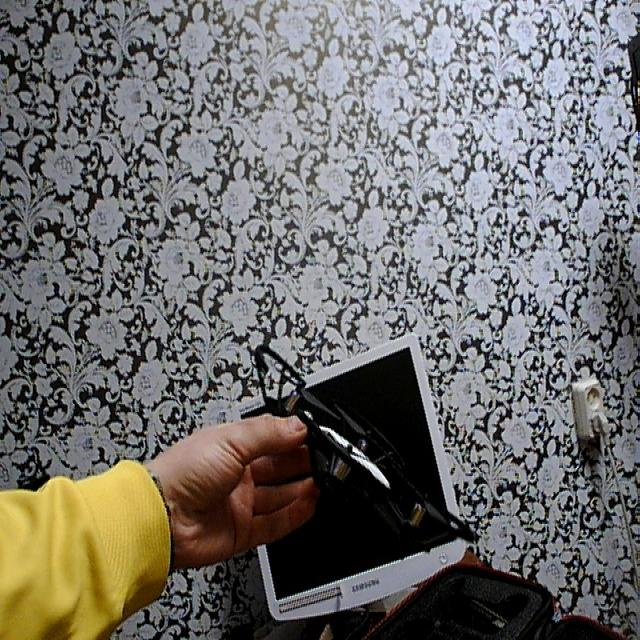drone: (226, 310, 500, 581)
